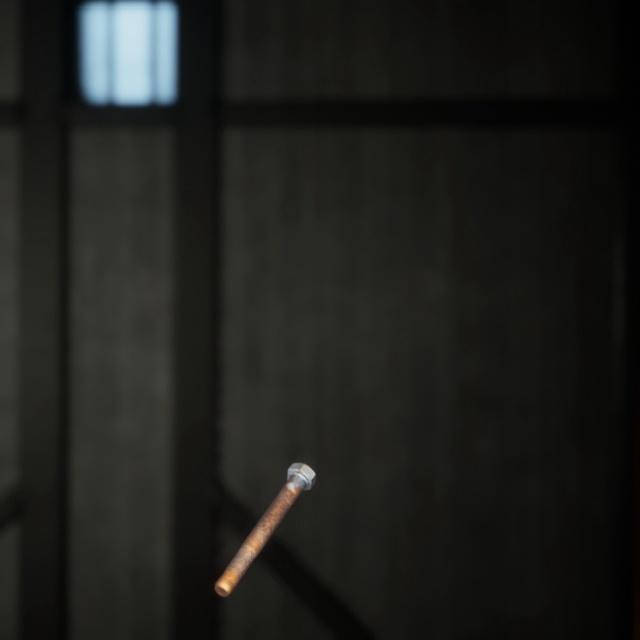bolt: (210, 436, 320, 578)
